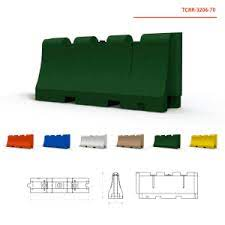barrier: (36, 30, 186, 114), (113, 132, 145, 154), (188, 132, 221, 153), (6, 132, 38, 151), (79, 132, 109, 152), (42, 134, 73, 152), (156, 133, 184, 148)
